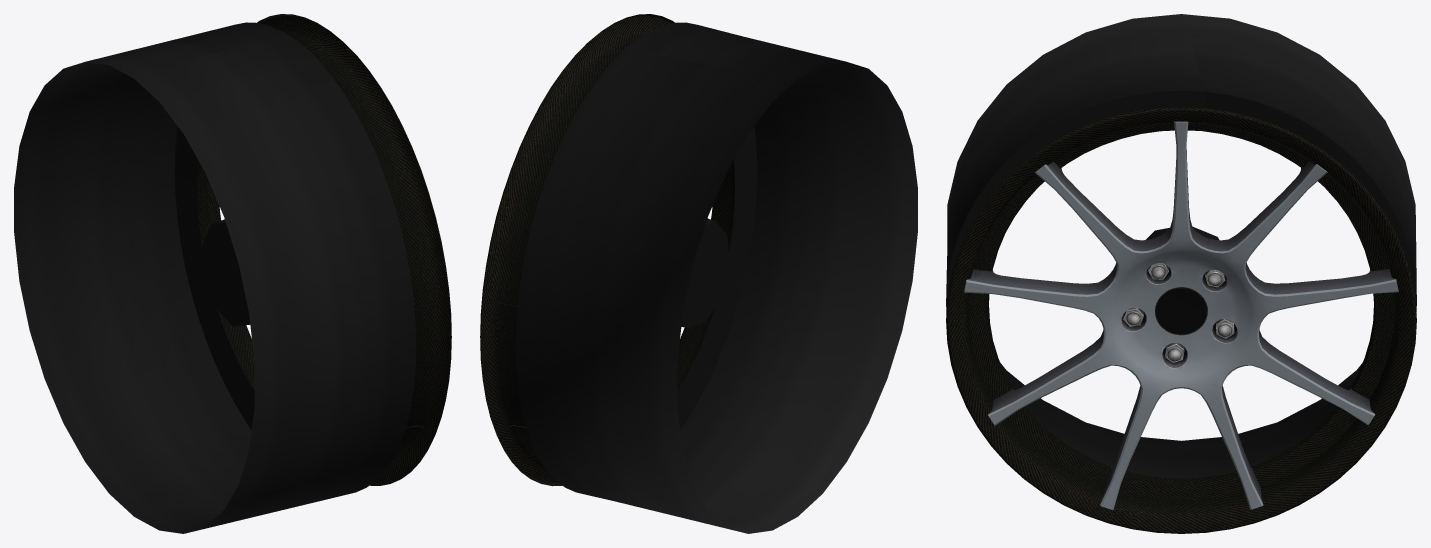
The model's file is wheel34.fbx.
The picture shows the model from 3 angles, left to right: view 1: azimuth 30°, elevation 25°; view 2: azimuth 150°, elevation 25°; view 3: azimuth 270°, elevation 25°; orthographic projection. The views are drawn at different scales.
Visible parts, largest first — view 1: dym_9spoke_wheel_wheel_inner_rim_, wheel_rim, dym_9spoke_wheel_wheel_rim_; view 2: dym_9spoke_wheel_wheel_inner_rim_, wheel_rim, dym_9spoke_wheel_wheel_rim_; view 3: dym_9spoke_wheel_wheel_rim_, dym_9spoke_wheel_wheel_inner_rim_, wheel_rim, dym_9spoke_wheel_wheel_chrome_rim_.
Boxes of the visible parts, x1=… form: dym_9spoke_wheel_wheel_inner_rim_: x1=14, y1=22, x2=416, y2=533; wheel_rim: x1=197, y1=14, x2=451, y2=483; dym_9spoke_wheel_wheel_rim_: x1=197, y1=14, x2=451, y2=485; dym_9spoke_wheel_wheel_inner_rim_: x1=515, y1=22, x2=917, y2=533; wheel_rim: x1=480, y1=14, x2=734, y2=486; dym_9spoke_wheel_wheel_rim_: x1=480, y1=23, x2=734, y2=482; dym_9spoke_wheel_wheel_rim_: x1=946, y1=107, x2=1415, y2=533; dym_9spoke_wheel_wheel_inner_rim_: x1=946, y1=14, x2=1416, y2=478; wheel_rim: x1=946, y1=110, x2=1416, y2=532; dym_9spoke_wheel_wheel_chrome_rim_: x1=1123, y1=263, x2=1234, y2=362.
Size of the model in its own units: 0.227 by 0.48 by 0.48.
1 material, 1 textured.
